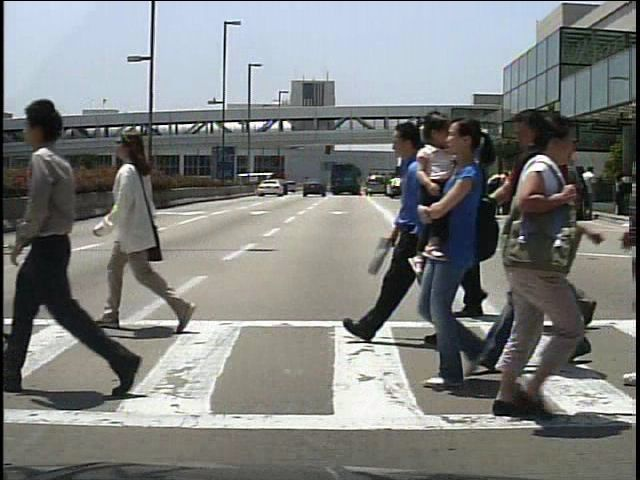person: (21, 79, 166, 403), (450, 111, 584, 427), (350, 118, 477, 347), (100, 121, 183, 340), (430, 130, 503, 322), (524, 141, 589, 336), (528, 103, 535, 376), (582, 168, 602, 218), (490, 163, 508, 216)
